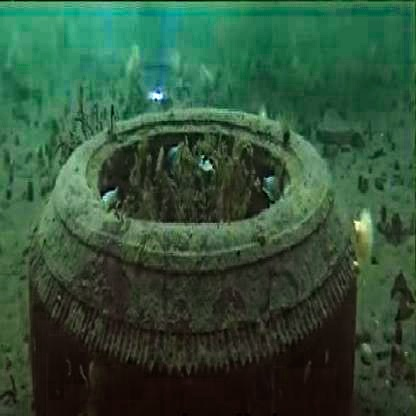tire: (32, 103, 343, 388)
